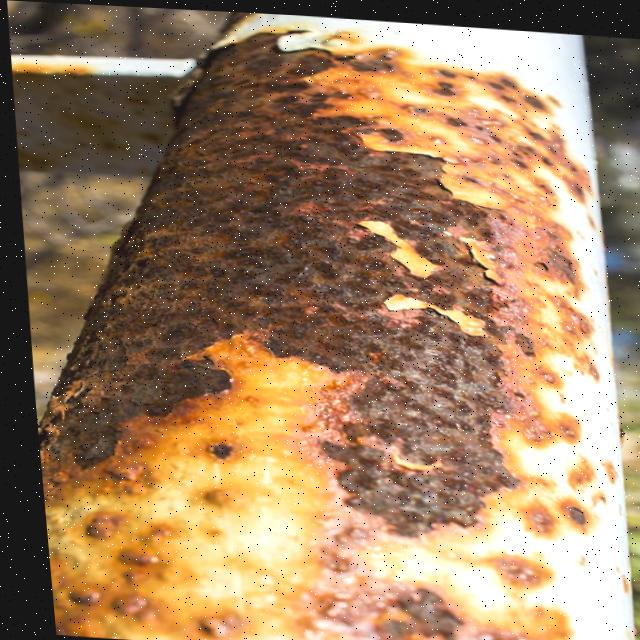corrosion: (1, 8, 640, 640)
